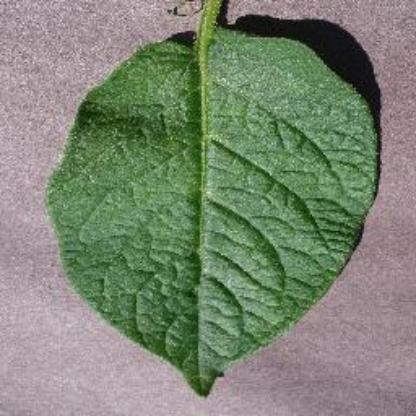Healthy-plant: (40, 1, 380, 400)
